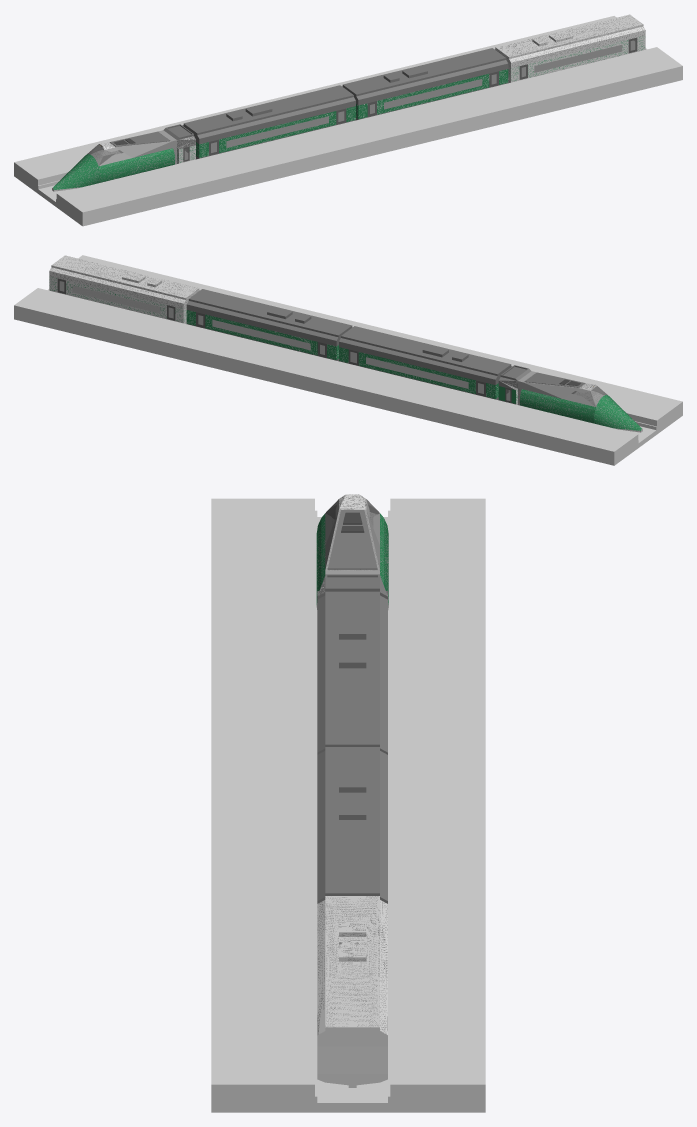
3 renders of one model, top to bottom at view 1: azimuth 30°, elevation 25°; view 2: azimuth 150°, elevation 25°; view 3: azimuth 270°, elevation 25°, orthographic. The views are drawn at different scales.
Visible parts, largest first — view 1: SketchUp (×17); view 2: SketchUp (×17); view 3: SketchUp (×8).
Boxes of the visible parts, x1,y1,x2,y2 form: SketchUp (×17): (14,14,682,226); SketchUp (×17): (14,255,682,465); SketchUp (×8): (211,498,485,1112).
Size of the model in its own units: 1275 by 253 by 86.01.
